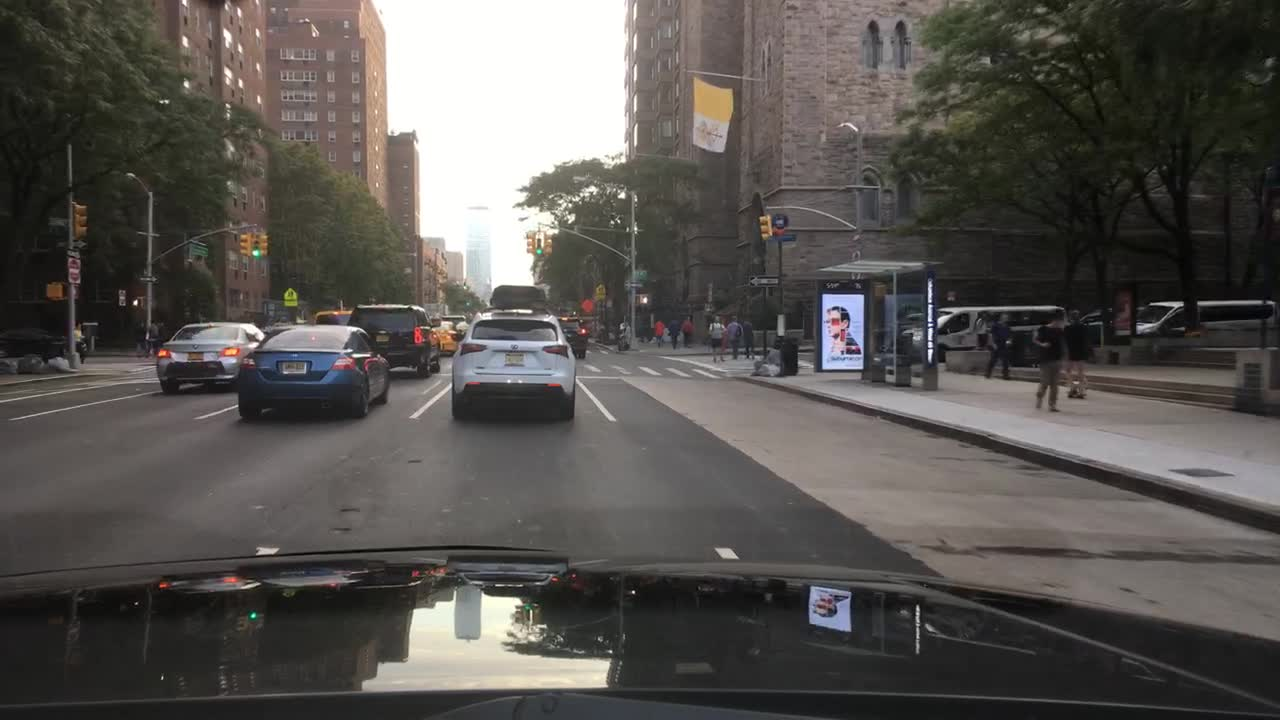car: (234, 323, 392, 421), (448, 309, 579, 420), (900, 303, 1069, 363), (155, 320, 267, 394), (346, 301, 442, 378), (1136, 296, 1278, 346), (0, 323, 87, 364), (553, 314, 589, 360), (428, 315, 462, 354), (1080, 306, 1143, 325), (312, 306, 353, 325), (440, 313, 467, 331)
person: (1030, 310, 1066, 413), (1064, 307, 1092, 399), (982, 310, 1018, 381), (1110, 293, 1135, 345), (707, 312, 729, 363), (724, 312, 744, 361), (739, 315, 757, 361), (143, 317, 161, 357), (974, 311, 991, 352), (70, 321, 86, 363), (665, 313, 683, 349), (133, 319, 149, 357), (652, 315, 667, 348), (682, 313, 695, 347), (621, 320, 632, 352), (636, 310, 647, 342), (643, 311, 654, 342), (617, 320, 626, 346)
traffic light: (73, 200, 90, 240), (43, 280, 66, 302), (757, 211, 772, 240), (257, 232, 269, 257), (238, 231, 249, 258), (543, 230, 554, 256), (251, 233, 261, 258), (524, 231, 535, 252), (534, 235, 544, 255), (636, 292, 652, 303), (130, 295, 143, 305)
traffic sign: (65, 255, 83, 285), (747, 273, 780, 287), (771, 210, 791, 232), (187, 240, 211, 257), (53, 237, 88, 248), (283, 285, 299, 307), (45, 215, 70, 227), (621, 278, 645, 290), (770, 231, 798, 241), (579, 296, 595, 313), (115, 287, 128, 307), (632, 267, 649, 281), (594, 282, 607, 300), (137, 272, 158, 283), (65, 247, 82, 258)
truck: (489, 284, 548, 314)
